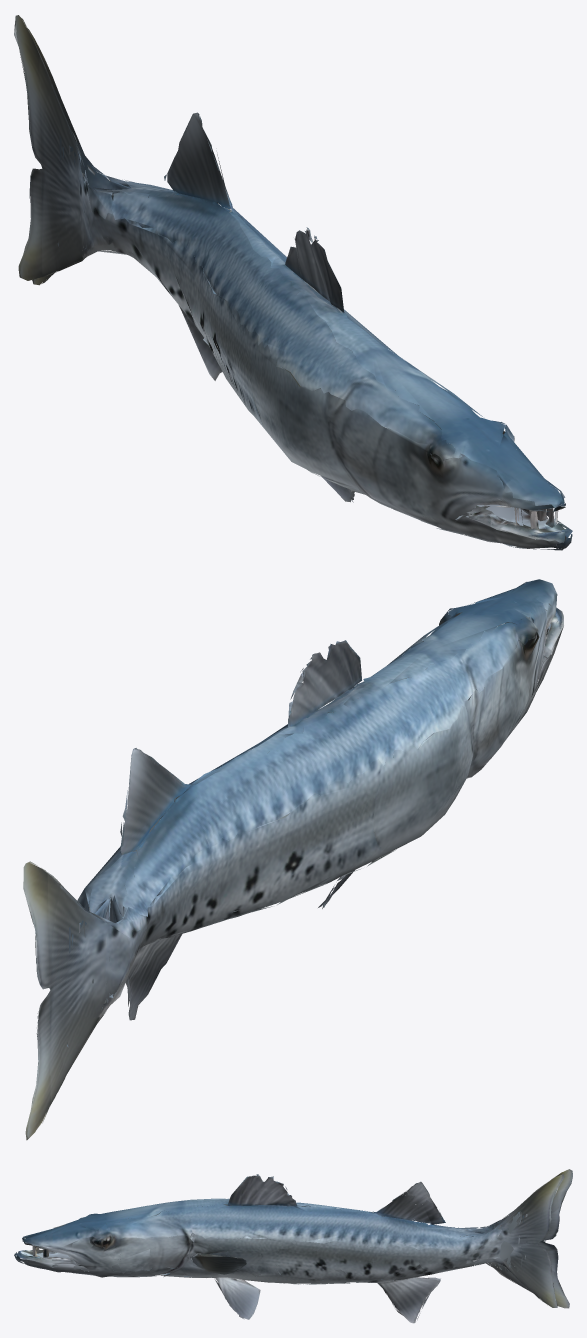
File: barracuda.glb
3 views of the same model, one above another, from view 1: azimuth 30°, elevation 25°; view 2: azimuth 150°, elevation 25°; view 3: azimuth 270°, elevation 25° (orthographic). The views are drawn at different scales.
Visible parts, largest first — view 1: barracuda.001; view 2: barracuda.001; view 3: barracuda.001.
Part boxes in pixels (x1,y1,x2,y2): barracuda.001: (14,15,572,550); barracuda.001: (23,579,563,1140); barracuda.001: (14,1169,572,1323).
Size of the model in its own units: 0.1403 by 0.2849 by 1.
Materials: 1 (1 with a texture image).
